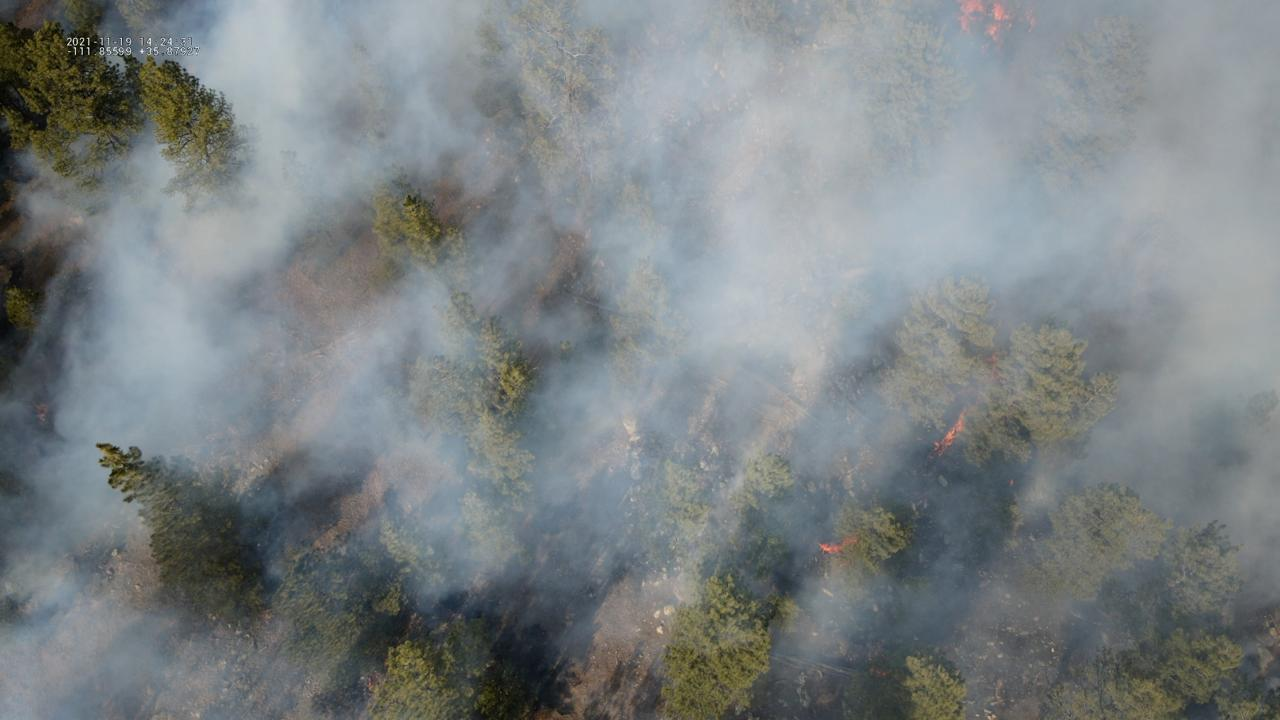fire: (959, 0, 1017, 43), (927, 410, 965, 462), (817, 534, 859, 554), (982, 350, 997, 381), (1007, 479, 1015, 486)
smoke: (0, 0, 1280, 720)
